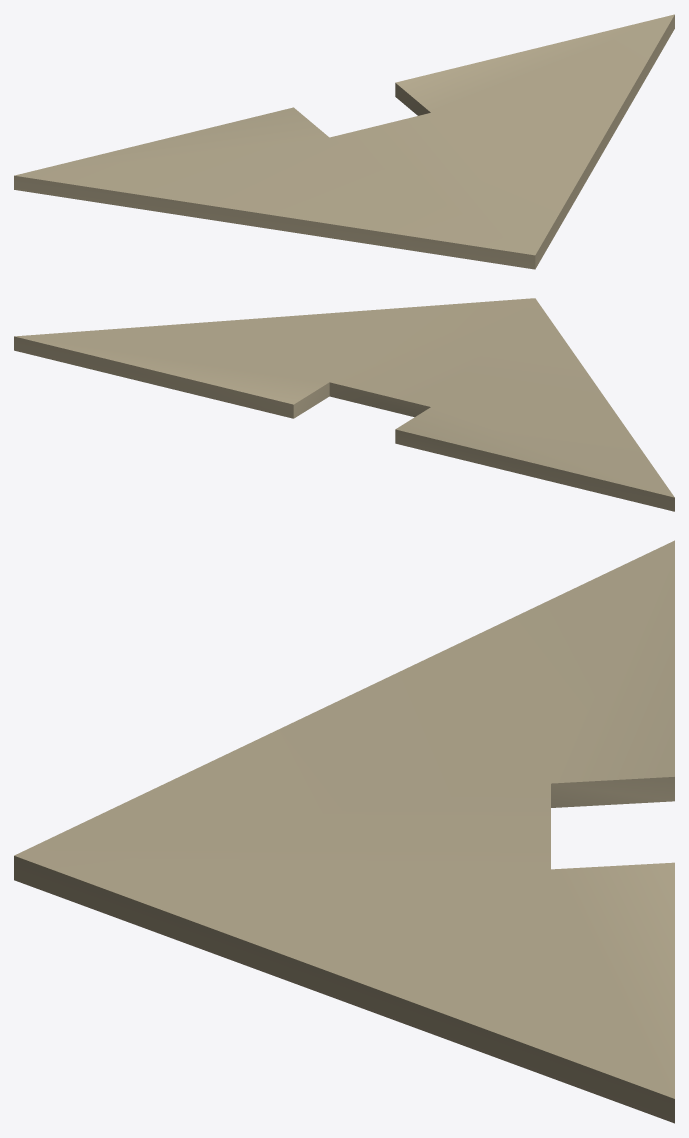
File: breach_wedge_a.glb
The picture shows the model from 3 angles, top to bottom: view 1: azimuth 30°, elevation 25°; view 2: azimuth 150°, elevation 25°; view 3: azimuth 270°, elevation 25°; orthographic projection. The views are drawn at different scales.
Visible parts, largest first — view 1: WedgeA; view 2: WedgeA; view 3: WedgeA.
Part boxes in pixels (box(x1,y1,x2,y2)): WedgeA: box(14, 14, 674, 269); WedgeA: box(14, 298, 674, 511); WedgeA: box(14, 540, 674, 1123).
Size of the model in its own units: 5.86 by 0.2958 by 2.93.
